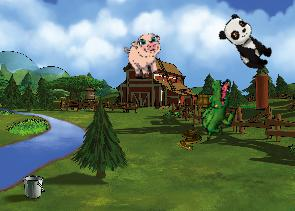crocodile: (195, 77, 239, 141)
panda: (214, 11, 279, 75)
pig: (122, 31, 168, 80)
